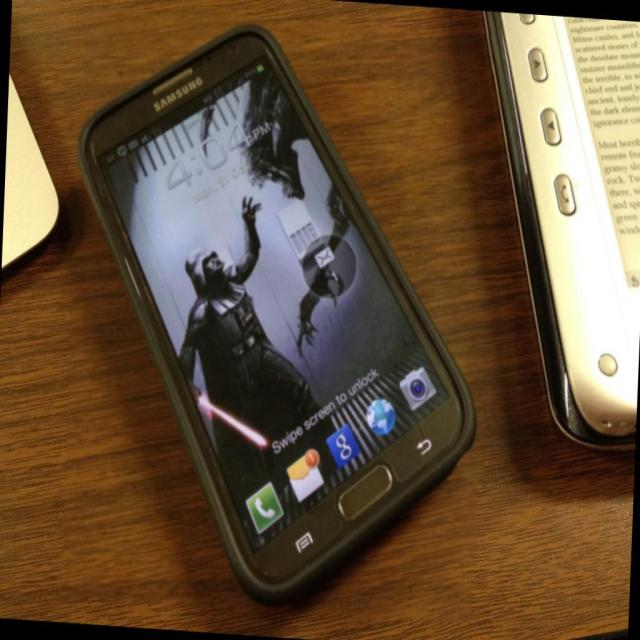handphone: (75, 18, 476, 580)
